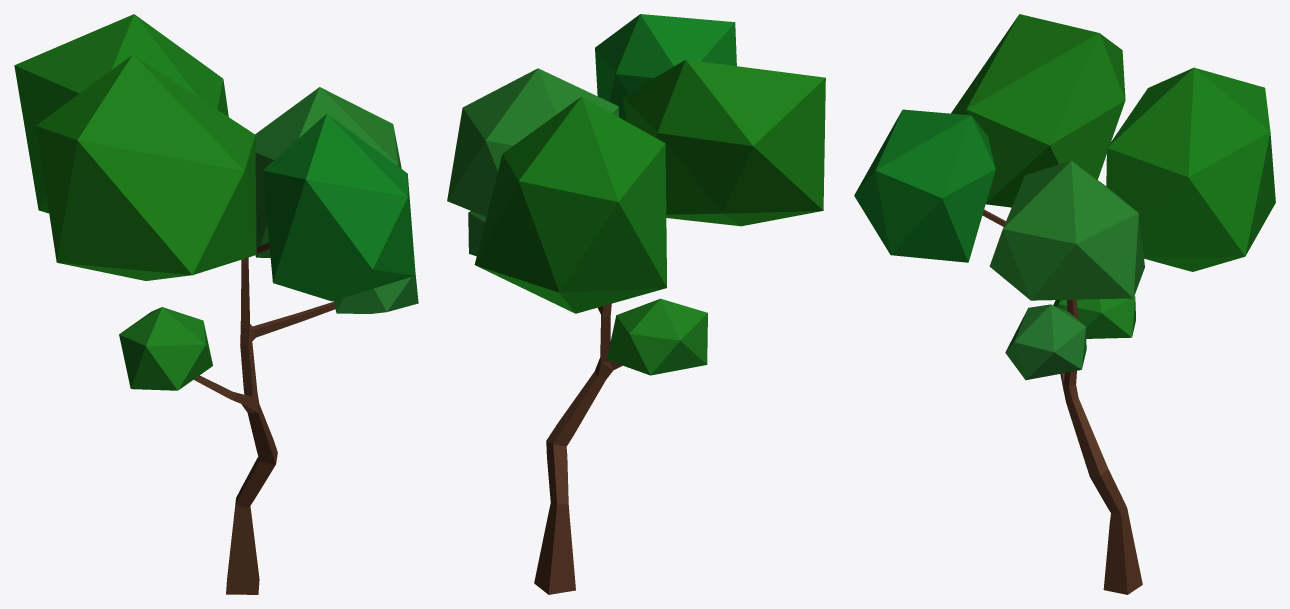
The model's file is arvore4.fbx.
The picture shows the model from 3 angles, left to right: view 1: azimuth 30°, elevation 25°; view 2: azimuth 150°, elevation 25°; view 3: azimuth 270°, elevation 25°; orthographic projection. The views are drawn at different scales.
Visible parts, largest first — view 1: Icosphere.002, Icosphere.003, Icosphere, Cube, Icosphere.004, Icosphere.001, Icosphere.005; view 2: Icosphere, Icosphere.002, Icosphere.001, Icosphere.003, Cube, Icosphere.004, Icosphere.005; view 3: Icosphere, Icosphere.002, Icosphere.001, Icosphere.003, Cube, Icosphere.005, Icosphere.004.
Part boxes in pixels (bbox=[...]): Icosphere.002: bbox=[36, 54, 256, 280]; Icosphere.003: bbox=[262, 114, 415, 301]; Icosphere: bbox=[14, 14, 228, 213]; Cube: bbox=[194, 243, 335, 594]; Icosphere.004: bbox=[119, 307, 212, 390]; Icosphere.001: bbox=[255, 87, 401, 257]; Icosphere.005: bbox=[333, 275, 418, 313]; Icosphere: bbox=[474, 96, 666, 313]; Icosphere.002: bbox=[623, 59, 825, 226]; Icosphere.001: bbox=[447, 68, 618, 216]; Icosphere.003: bbox=[595, 14, 736, 121]; Cube: bbox=[534, 303, 622, 594]; Icosphere.004: bbox=[607, 298, 707, 375]; Icosphere.005: bbox=[468, 211, 486, 255]; Icosphere: bbox=[1106, 67, 1275, 271]; Icosphere.002: bbox=[951, 14, 1125, 207]; Icosphere.001: bbox=[989, 160, 1144, 300]; Icosphere.003: bbox=[854, 109, 995, 262]; Cube: bbox=[982, 209, 1142, 594]; Icosphere.005: bbox=[1005, 304, 1086, 380]; Icosphere.004: bbox=[1053, 296, 1135, 338].
Bounding box in the file's own units: 377 × 567 × 431.
